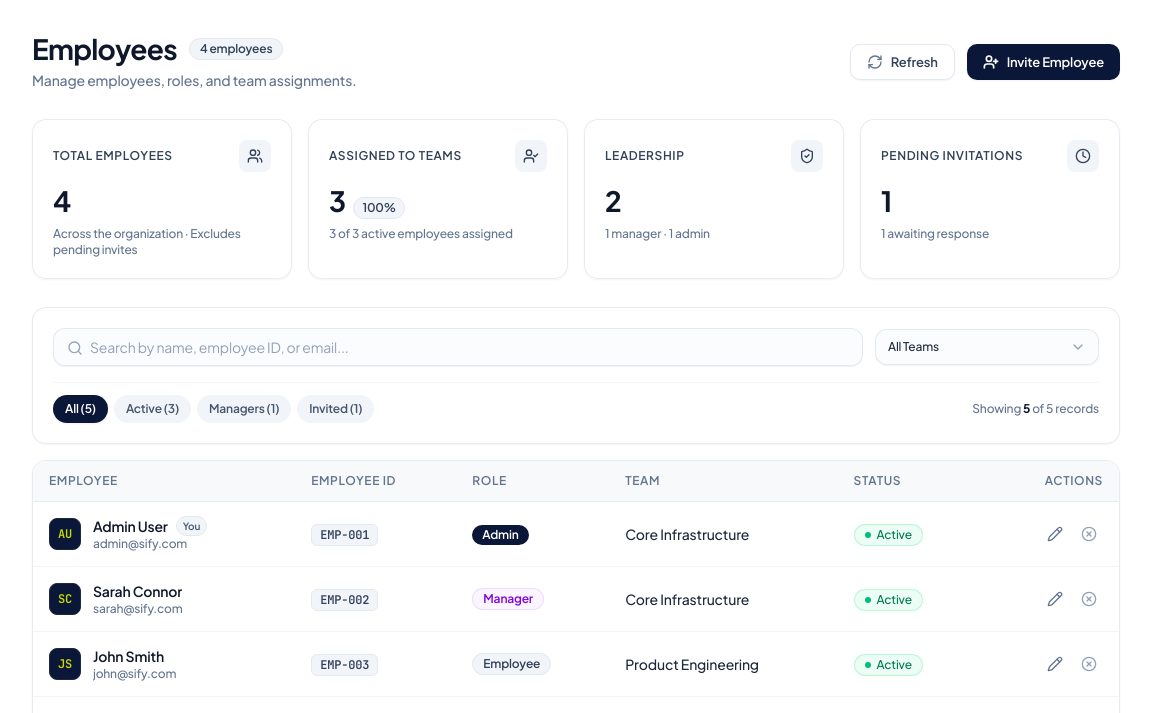
Scenario: EmployeesList UX and Functionality Improvements › provides search across name, employee code/ID, and email
This screenshot has width=1152, height=713.
// Search by code
Type "EMP-003" into the field with placeholder "Search by name, employee ID, or email..." at (458, 347), box [53,328,863,366]
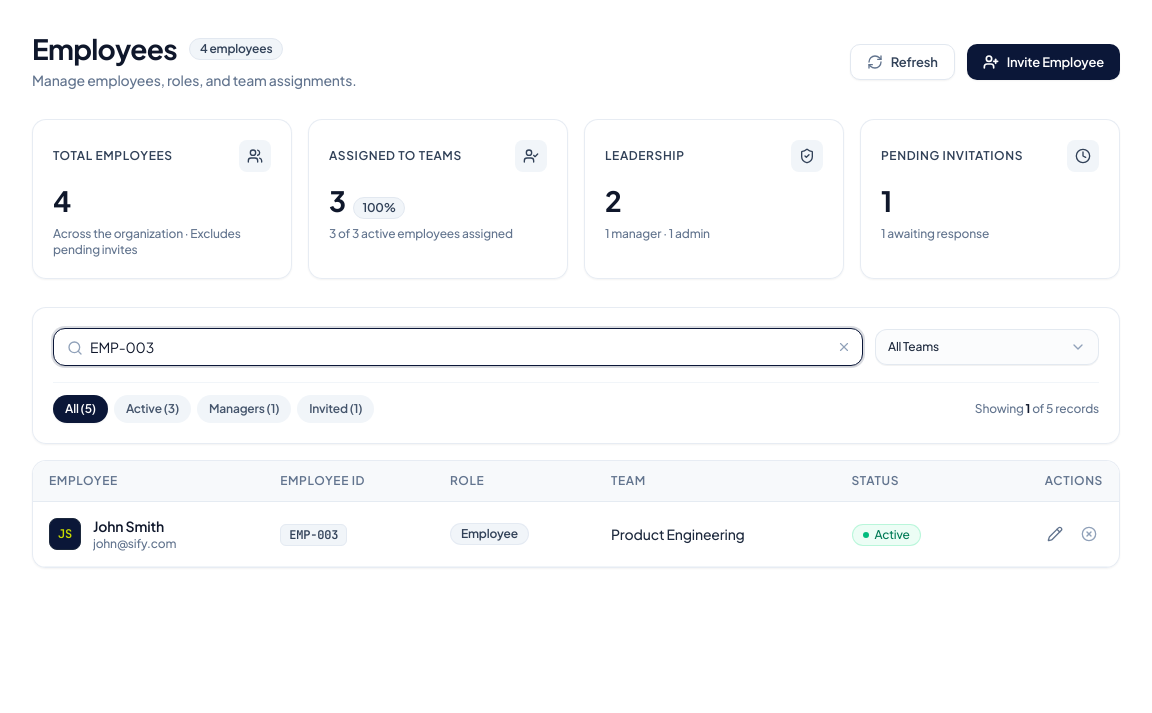
Check: the text "John Smith" is shown, box [93,516,164,536]
Check: the text "Sarah Connor" is gone
// Clear search
Click the button titled "Clear search" at (844, 347), box [835,338,853,356]
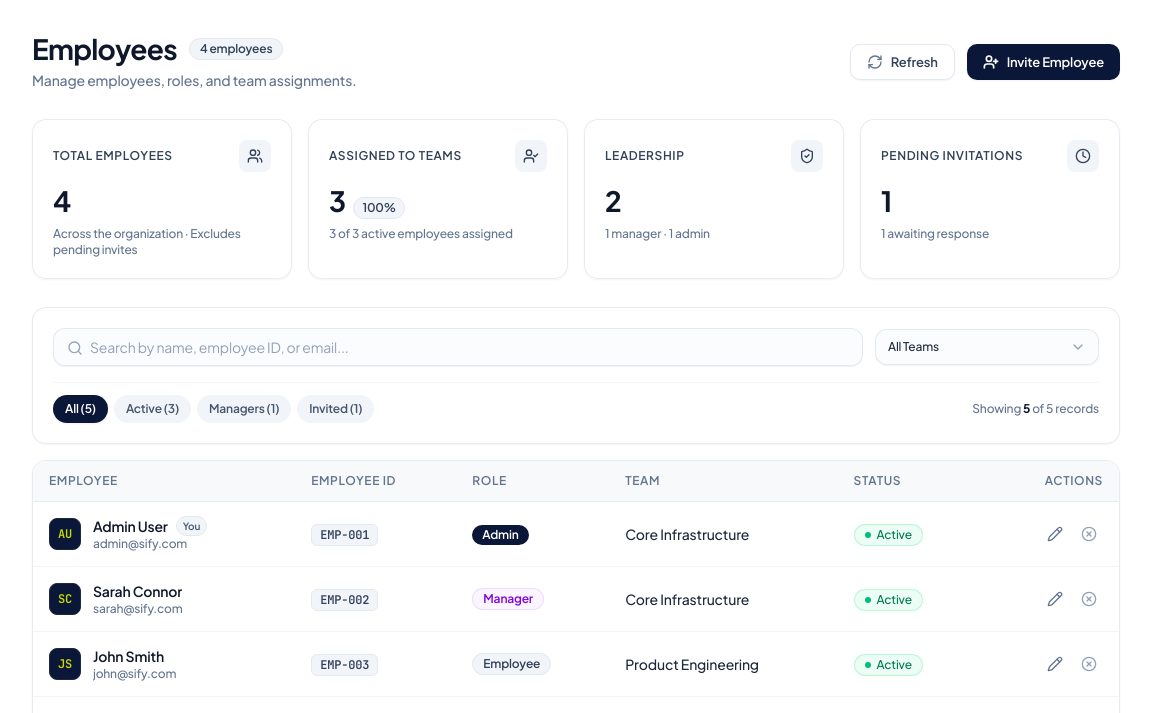
Check: the text "Sarah Connor" is shown, box [93,581,182,601]
// Search by email
Type "sarah@sify.com" into the field with placeholder "Search by name, employee ID, or email..." at (458, 347), box [53,328,863,366]
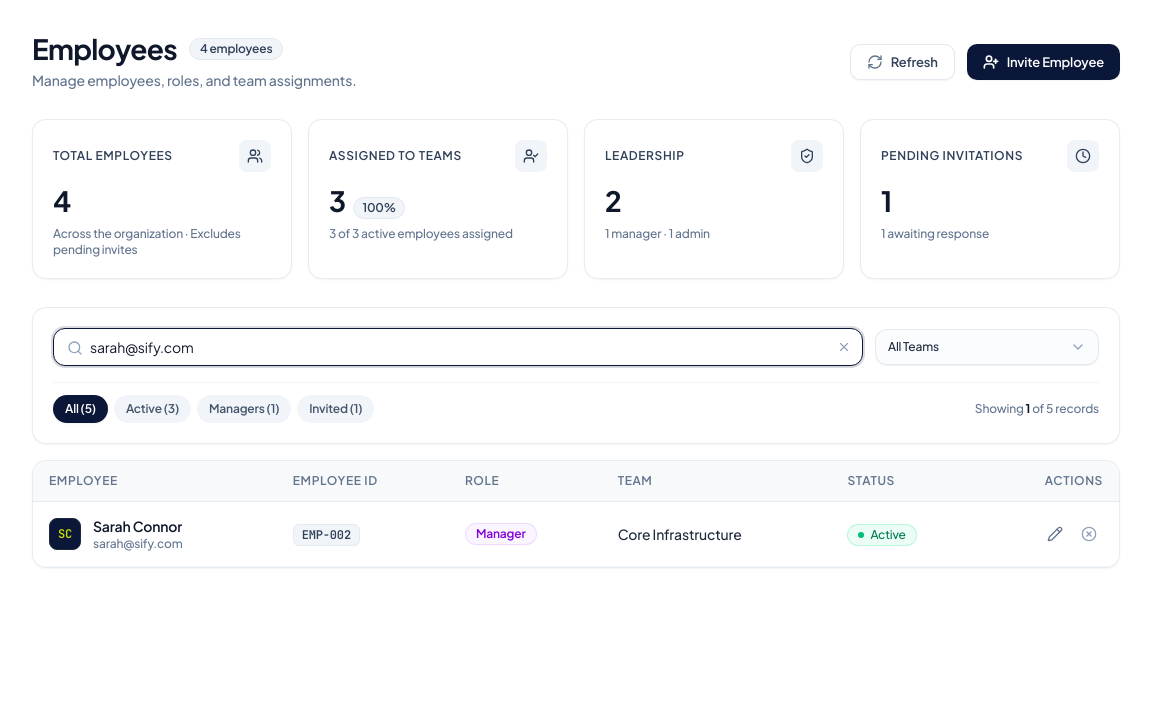
Check: the text "Sarah Connor" is shown, box [93,516,182,536]
Check: the text "John Smith" is gone
